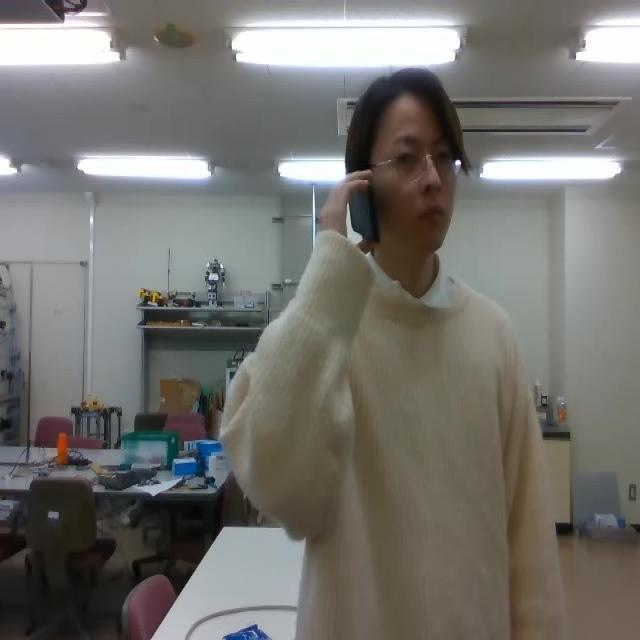Phone: (346, 182, 382, 245)
